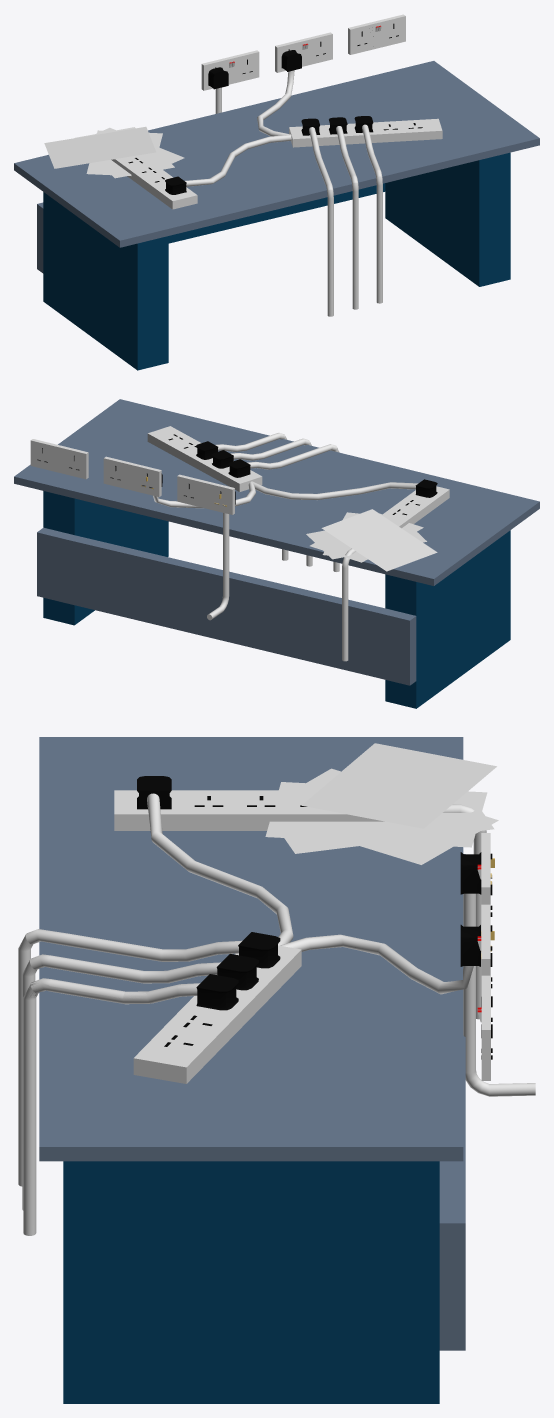
File: Minigame-Socket-V2.fbx
3 renders of one model, top to bottom at view 1: azimuth 30°, elevation 25°; view 2: azimuth 150°, elevation 25°; view 3: azimuth 270°, elevation 25°, orthographic. The views are drawn at different scales.
Parts seen in each view (by area): view 1: prp_environment, itm_Paperstack, itm_WallSocket_DMG, itm_ExtensionCable_DMG, itm_FrayedCable_DMG, itm_ExtensionCable_FIX, itm_FrayedCable_FIX; view 2: prp_environment, itm_Paperstack, itm_WallSocket_FIX, itm_ExtensionCable_DMG, itm_ExtensionCable_FIX, itm_FrayedCable_DMG; view 3: prp_environment, itm_Paperstack, itm_FrayedCable_DMG, itm_ExtensionCable_DMG, itm_FrayedCable_FIX, itm_ExtensionCable_FIX.
Part boxes in pixels (x1,y1,x2,y2): prp_environment: [14, 32, 539, 370]; itm_Paperstack: [44, 126, 184, 178]; itm_WallSocket_DMG: [348, 16, 405, 54]; itm_ExtensionCable_DMG: [165, 134, 291, 194]; itm_FrayedCable_DMG: [362, 124, 382, 303]; itm_ExtensionCable_FIX: [257, 50, 301, 136]; itm_FrayedCable_FIX: [365, 126, 382, 303]; prp_environment: [14, 399, 539, 708]; itm_Paperstack: [306, 509, 437, 571]; itm_WallSocket_FIX: [30, 439, 87, 479]; itm_ExtensionCable_DMG: [251, 479, 437, 500]; itm_ExtensionCable_FIX: [141, 473, 255, 508]; itm_FrayedCable_DMG: [215, 433, 288, 560]; prp_environment: [18, 737, 535, 1403]; itm_Paperstack: [265, 743, 498, 864]; itm_FrayedCable_DMG: [23, 978, 200, 1235]; itm_ExtensionCable_DMG: [137, 776, 293, 945]; itm_FrayedCable_FIX: [23, 979, 199, 1235]; itm_ExtensionCable_FIX: [280, 925, 494, 994].
Bounding box in the file's own units: 684 × 291 × 365.
